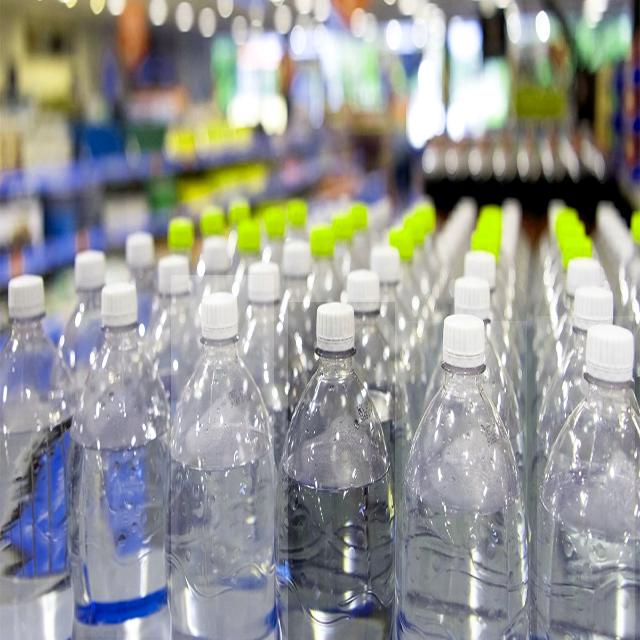full-bottle: (402, 321, 527, 640), (171, 275, 274, 640), (288, 302, 395, 640), (537, 316, 635, 640), (79, 293, 169, 637), (0, 274, 77, 640)
